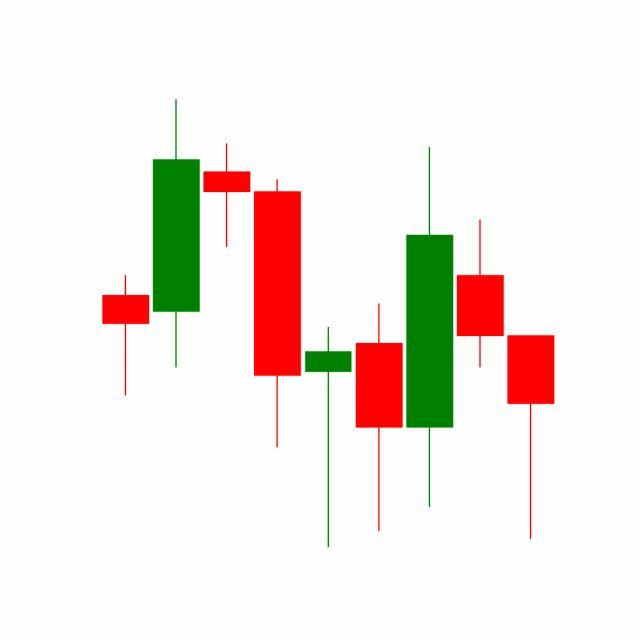Hikkake Pattern: (302, 143, 555, 549)
